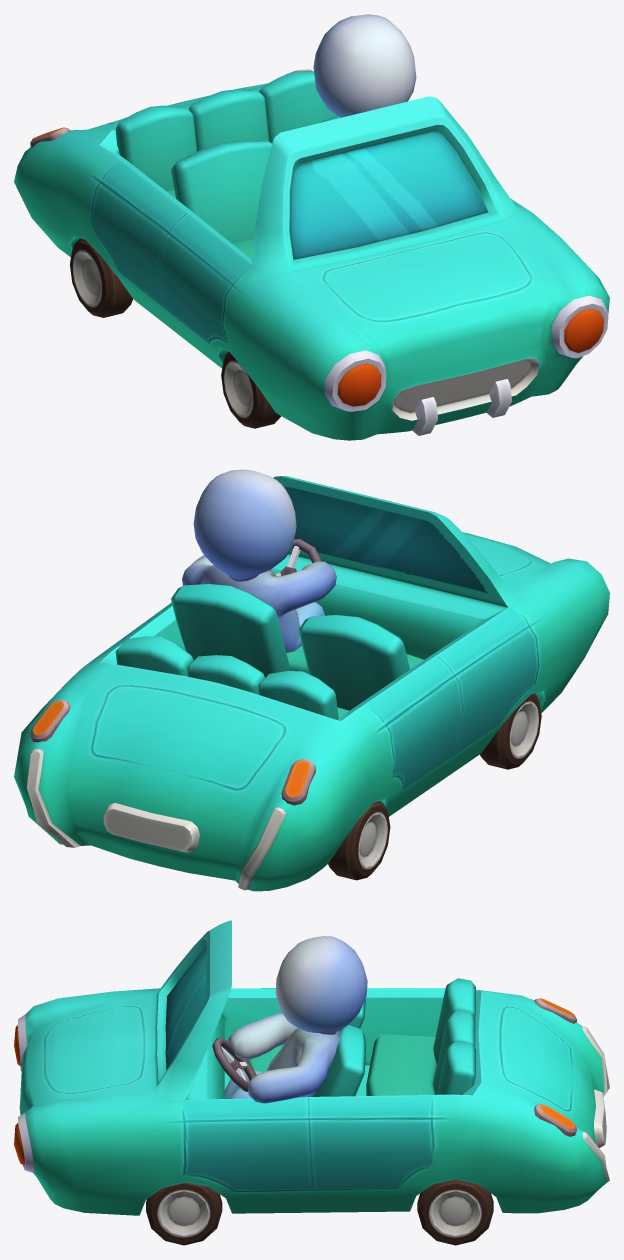
Rendered from Car02.fbx.
3 views of the same model, one above another, from view 1: azimuth 30°, elevation 25°; view 2: azimuth 150°, elevation 25°; view 3: azimuth 270°, elevation 25° (orthographic). The views are drawn at different scales.
Parts seen in each view (by area): view 1: Car02; view 2: Car02; view 3: Car02.
Boxes of the visible parts, x1,y1,x2,y2 form: Car02: (14,14,609,440); Car02: (14,469,609,891); Car02: (14,920,609,1245).
Bounding box in the file's own units: 151 × 136 × 272.
